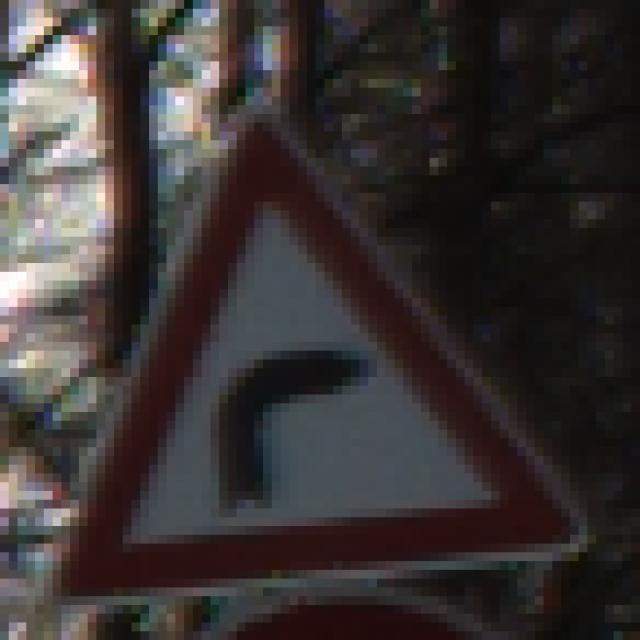right hand curve: (38, 105, 588, 606)
